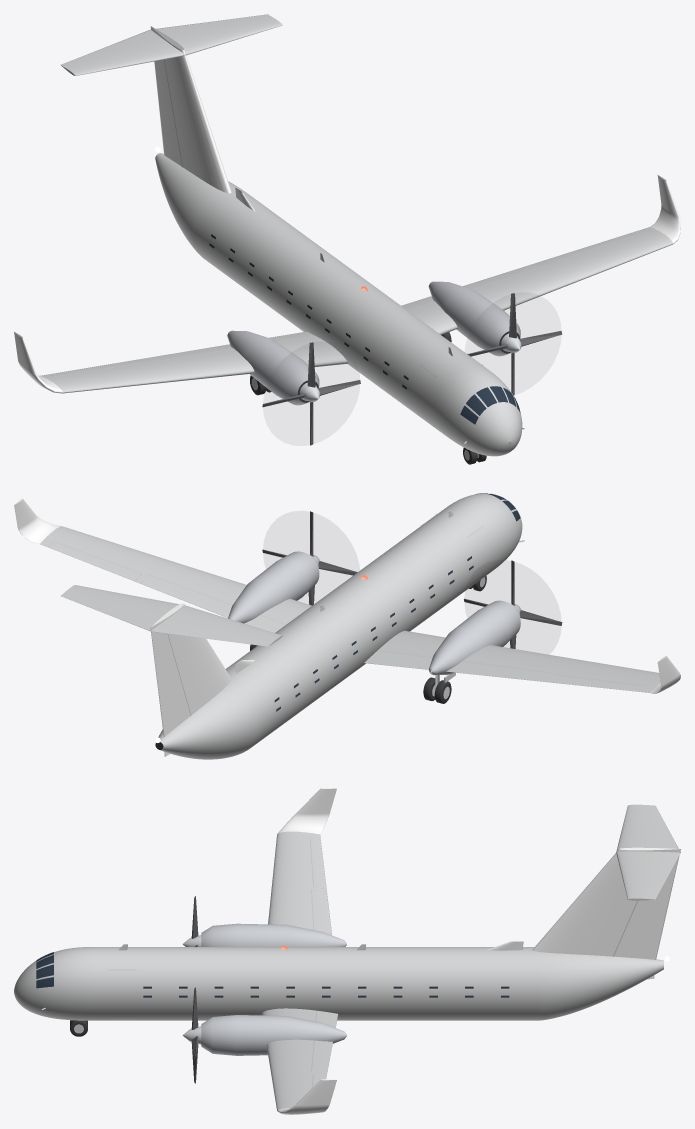
3 renders of one model, top to bottom at view 1: azimuth 30°, elevation 25°; view 2: azimuth 150°, elevation 25°; view 3: azimuth 270°, elevation 25°, orthographic. The views are drawn at different scales.
Parts seen in each view (by area): view 1: airframe, prop (×2); view 2: airframe, prop (×2), gear; view 3: airframe.
Boxes of the visible parts, x1,y1,x2,y2 form: airframe: [14, 14, 680, 456]; prop (×2): [262, 293, 562, 445]; airframe: [14, 493, 680, 759]; prop (×2): [262, 511, 562, 648]; gear: [250, 576, 486, 703]; airframe: [14, 788, 680, 1114].
Size of the model in its own units: 18.76 by 5.62 by 18.06.
